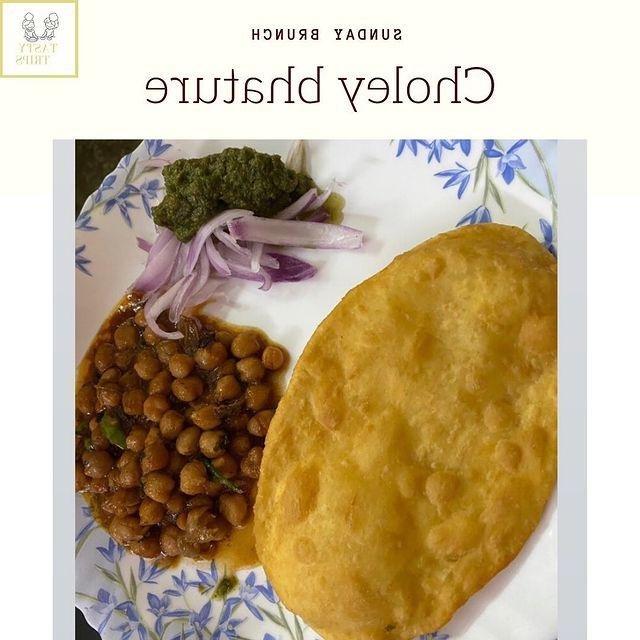Chole: (75, 324, 266, 555)
